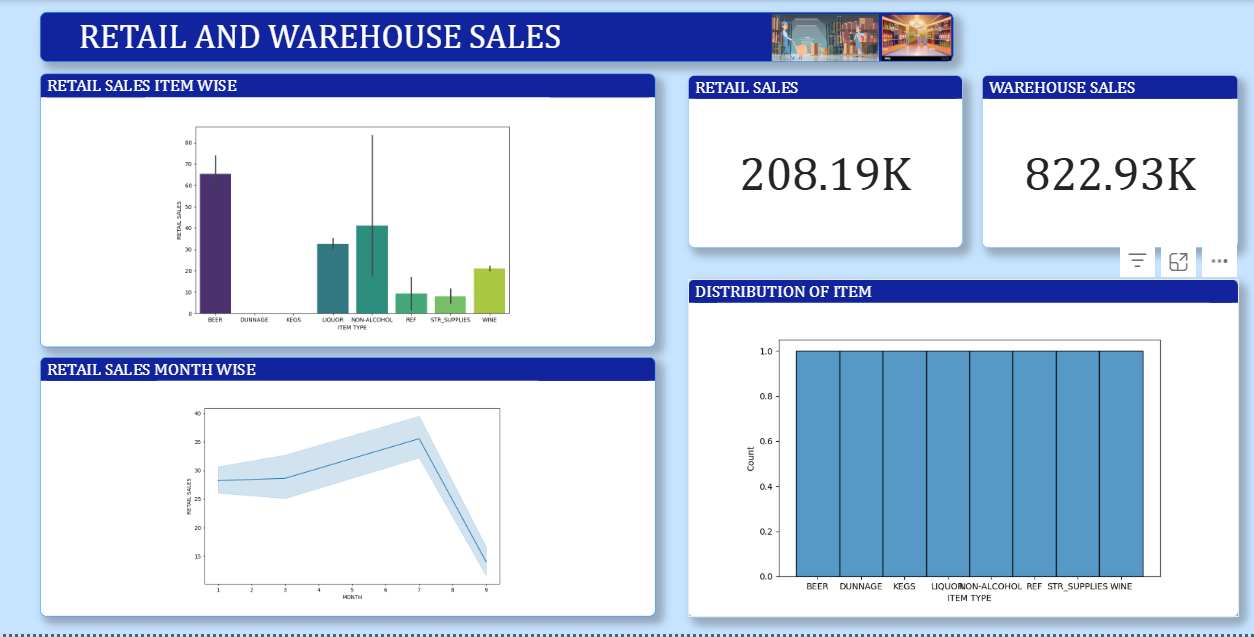

This screenshot's page, from the dashboard's own definition file:
{"tool":"powerbi","page":{"name":"Page 1","canvas":[1600,800],"ordinal":0},"visuals":[{"type":"pythonVisual","title":"RETAIL SALES ITEM WISE","fields":{"Values":["Retail.ITEM TYPE","Retail.RETAIL SALES"]},"box":[63.9,91.8,776.7,345.4],"z":0},{"type":"pythonVisual","title":"RETAIL SALES MONTH WISE","fields":{"Values":["Retail.RETAIL SALES","Retail.MONTH"]},"box":[63.9,451.3,776.7,327.5],"z":1000},{"type":"textbox","box":[64.4,15.1,1152.7,62.5],"z":2000},{"type":"card","title":"RETAIL SALES","fields":{"Values":["Measure.RETAIL SALES"]},"box":[882,94.6,346.4,217.7],"z":3000},{"type":"card","title":"WAREHOUSE SALES","fields":{"Values":["Measure.WAREHOUSE SALES"]},"box":[1253,94.6,323.7,217.7],"z":4000},{"type":"pythonVisual","title":"DISTRIBUTION OF ITEM ","fields":{"Values":["Retail.ITEM TYPE"]},"box":[882.6,351.4,694.9,427.3],"z":5000},{"type":"image","box":[1101.6,13.2,138.2,68.1],"z":6000},{"type":"image","box":[982.3,11.4,145.7,71.9],"z":7000}]}

Visuals, with their boxes in screenshot pixels (x1, y1, x2, y2), scaled from the page's 1600x800 canvas onto the 1254x637 screenshot:
"RETAIL SALES ITEM WISE" pythonVisual: region(50, 73, 659, 348)
"RETAIL SALES MONTH WISE" pythonVisual: region(50, 359, 659, 620)
textbox: region(50, 12, 954, 62)
"RETAIL SALES" card: region(691, 75, 963, 249)
"WAREHOUSE SALES" card: region(982, 75, 1236, 249)
"DISTRIBUTION OF ITEM " pythonVisual: region(692, 280, 1236, 620)
image: region(863, 11, 972, 65)
image: region(770, 9, 884, 66)
